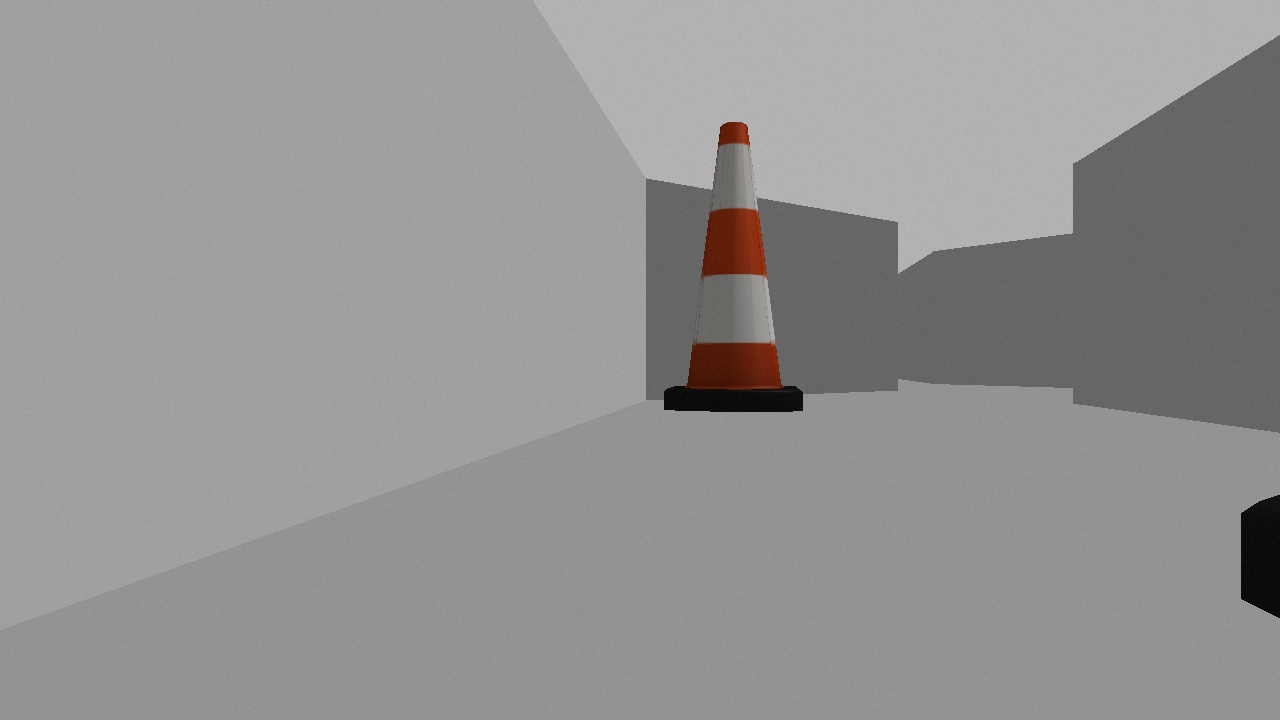barricade: (662, 123, 805, 411)
